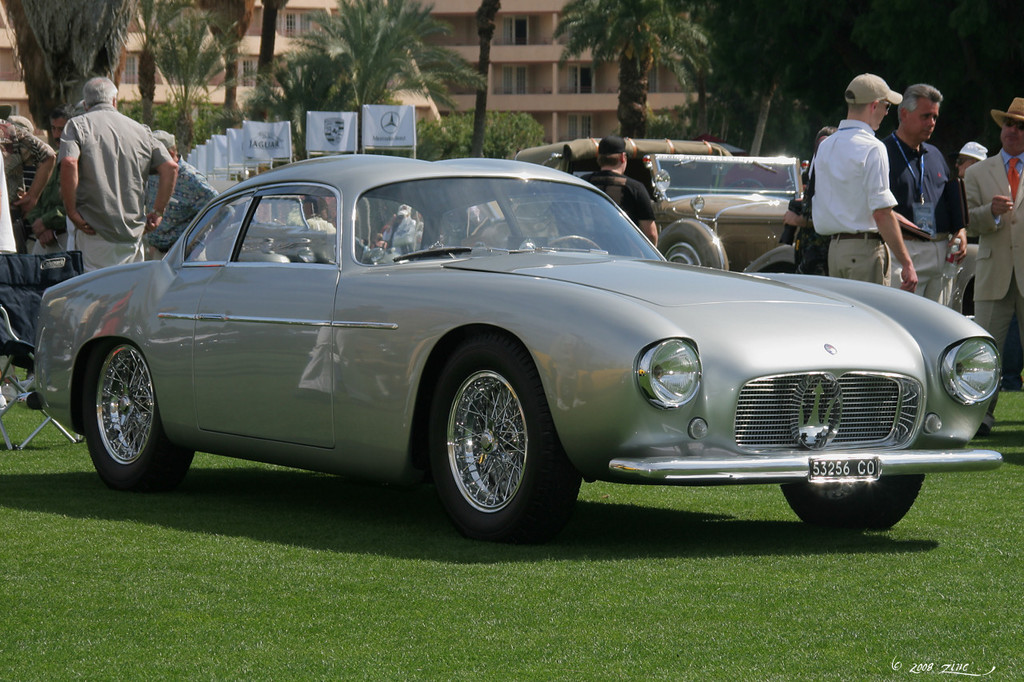Car: (7, 162, 1019, 536), (460, 137, 798, 270), (952, 241, 981, 320)
